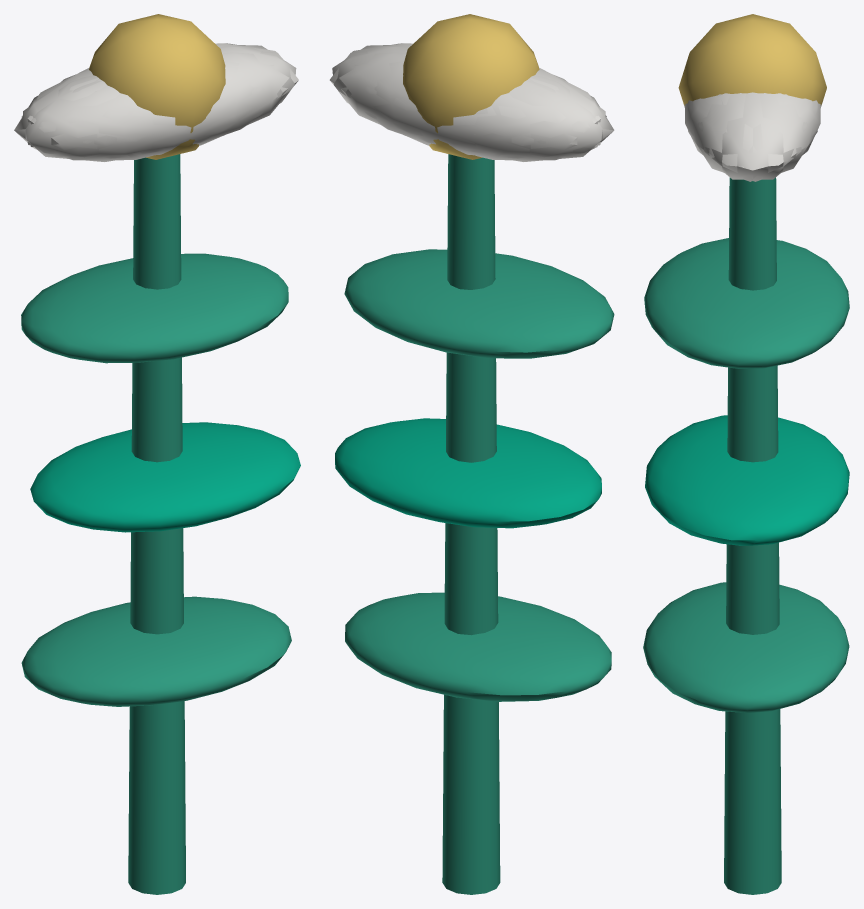
The model's file is oldenlandia-corymbosa.glb.
3 views of the same model, side by side, from view 1: azimuth 30°, elevation 25°; view 2: azimuth 150°, elevation 25°; view 3: azimuth 270°, elevation 25° (orthographic).
Visible parts, largest first — view 1: stem, leaf2, leaf1, leaf0, center, petal6, petal2, petal1, petal5, petal7, petal0; view 2: stem, leaf2, leaf1, leaf0, center, petal3, petal7, petal8, petal4, petal2, petal0; view 3: stem, leaf1, leaf2, leaf0, center, petal0, petal4, petal5, petal8, petal1.
Part boxes in pixels (x1,y1,x2,y2): stem: [128, 154, 185, 894]; leaf2: [21, 253, 288, 363]; leaf1: [30, 422, 300, 532]; leaf0: [21, 596, 291, 706]; center: [89, 14, 225, 159]; petal6: [30, 80, 212, 160]; petal2: [23, 75, 163, 161]; petal1: [94, 60, 282, 158]; petal5: [153, 51, 298, 151]; petal7: [14, 70, 106, 153]; petal0: [219, 45, 296, 135]; stem: [442, 154, 500, 894]; leaf2: [344, 249, 614, 358]; leaf1: [335, 418, 601, 528]; leaf0: [345, 592, 611, 701]; center: [403, 14, 539, 159]; petal3: [415, 80, 597, 160]; petal7: [465, 75, 605, 161]; petal8: [345, 60, 533, 158]; petal4: [329, 51, 475, 151]; petal2: [521, 70, 614, 153]; petal0: [332, 45, 408, 118]; stem: [724, 177, 781, 894]; leaf1: [645, 415, 849, 545]; leaf2: [644, 238, 849, 368]; leaf0: [643, 582, 849, 712]; center: [678, 14, 826, 105]; petal0: [698, 92, 807, 179]; petal4: [741, 93, 817, 181]; petal5: [688, 93, 763, 181]; petal8: [774, 93, 820, 155]; petal1: [685, 93, 731, 155].
Bounding box in the file's own units: 0.1541 × 0.461 × 0.1002.
